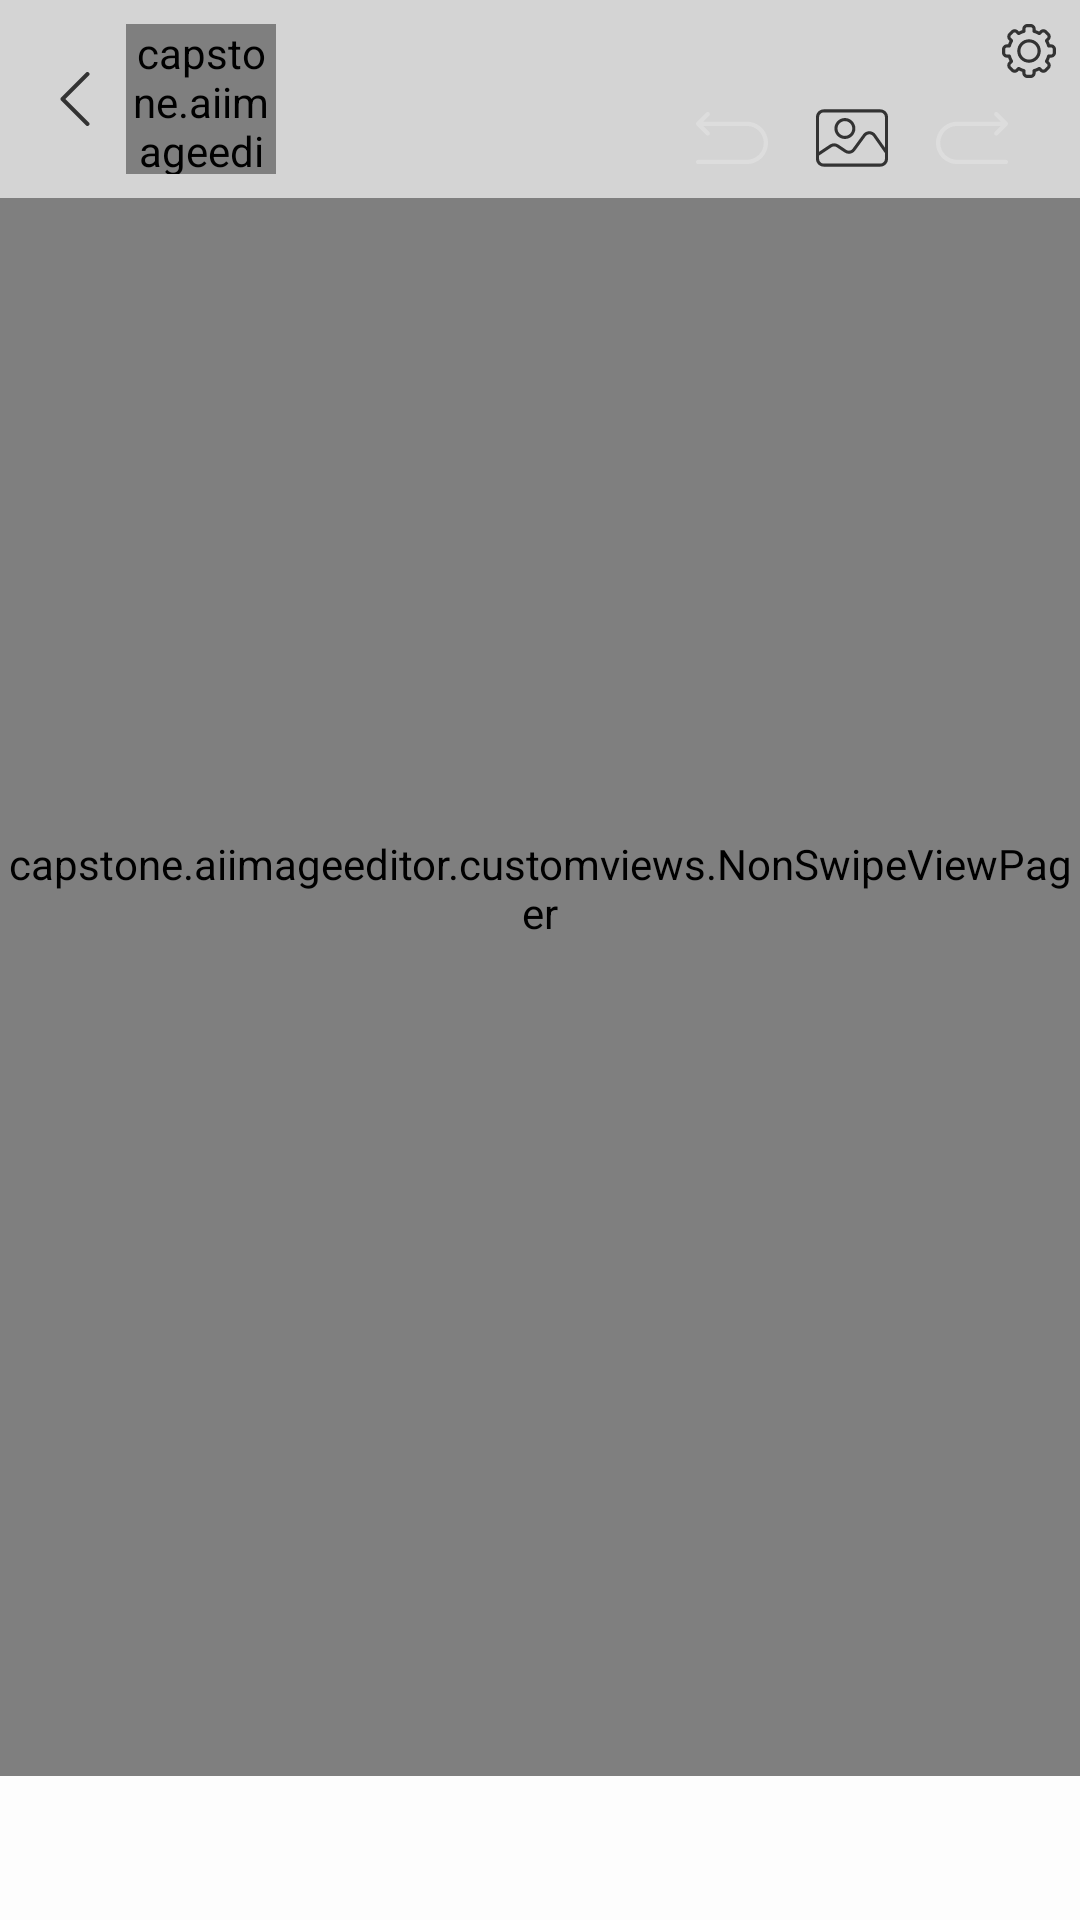

Where icons sit on this 1080px×1920px app screen, as (x1, y1, x2, y2):
back: (60, 72, 90, 126)
photo: (816, 109, 888, 167)
settings: (1002, 24, 1056, 78)
